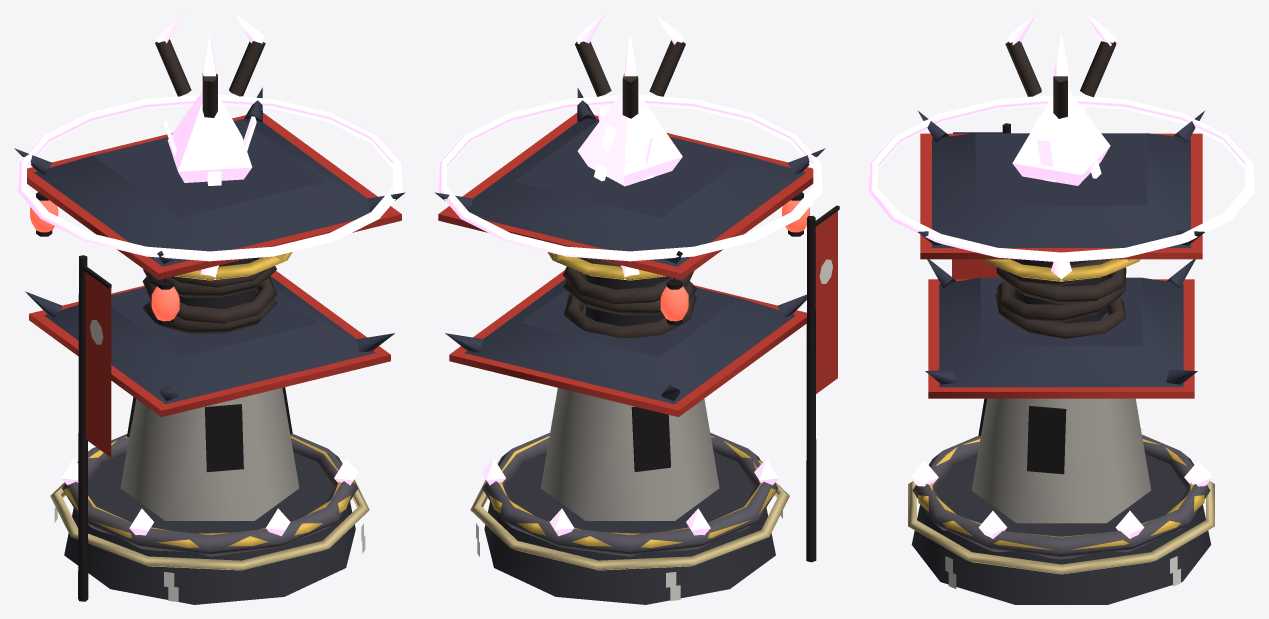
Rendered from tower_chain_thunder_ultimate.glb.
The picture shows the model from 3 angles, left to right: view 1: azimuth 30°, elevation 25°; view 2: azimuth 150°, elevation 25°; view 3: azimuth 270°, elevation 25°; orthographic projection.
Visible parts, largest first — view 1: deco_eave_0_roof, deco_eave_1_roof, base, shaft, ult_halo, base_rim, deco_eave_1_rim, deco_eave_0_rim, crystal_core, deco_nobori_cloth, deco_shimenawa_rope, deco_nobori_pole (+15 smaller); view 2: deco_eave_0_roof, deco_eave_1_roof, base, shaft, ult_halo, base_rim, deco_eave_1_rim, deco_eave_0_rim, crystal_core, deco_shimenawa_rope, deco_nobori_cloth, deco_nobori_pole (+13 smaller); view 3: deco_eave_0_roof, deco_eave_1_roof, shaft, base, ult_halo, base_rim, deco_eave_1_rim, crystal_core, deco_eave_0_rim, deco_shimenawa_rope, scorch_0, coil_1 (+12 smaller).
Part boxes in pixels (x1,y1,x2,y2): deco_eave_0_roof: [34, 118, 385, 266]; deco_eave_1_roof: [44, 276, 375, 404]; base: [64, 452, 355, 604]; shaft: [120, 388, 299, 520]; ult_halo: [17, 95, 402, 261]; base_rim: [61, 433, 358, 556]; deco_eave_1_rim: [29, 271, 390, 417]; deco_eave_0_rim: [27, 113, 401, 279]; crystal_core: [167, 91, 252, 182]; deco_nobori_cloth: [85, 272, 111, 457]; deco_shimenawa_rope: [50, 479, 369, 570]; deco_nobori_pole: [78, 255, 88, 601]; deco_eave_0_roof: [454, 118, 805, 266]; deco_eave_1_roof: [465, 279, 795, 404]; base: [484, 451, 775, 604]; shaft: [541, 388, 719, 520]; ult_halo: [437, 95, 822, 261]; base_rim: [482, 432, 778, 556]; deco_eave_1_rim: [449, 270, 806, 417]; deco_eave_0_rim: [438, 113, 813, 279]; crystal_core: [577, 91, 682, 186]; deco_shimenawa_rope: [470, 479, 789, 570]; deco_nobori_cloth: [815, 211, 837, 393]; deco_nobori_pole: [806, 216, 816, 562]; deco_eave_0_roof: [932, 133, 1190, 247]; deco_eave_1_roof: [939, 277, 1183, 387]; shaft: [971, 398, 1151, 523]; base: [911, 453, 1211, 604]; ult_halo: [868, 95, 1254, 262]; base_rim: [912, 434, 1210, 559]; deco_eave_1_rim: [928, 279, 1194, 398]; crystal_core: [1012, 90, 1110, 185]; deco_eave_0_rim: [920, 133, 1202, 259]; deco_shimenawa_rope: [908, 481, 1214, 574]; scorch_0: [1027, 406, 1066, 474]; coil_1: [996, 280, 1126, 322].
Size of the model in its own units: 0.434 by 0.64 by 0.4274.
